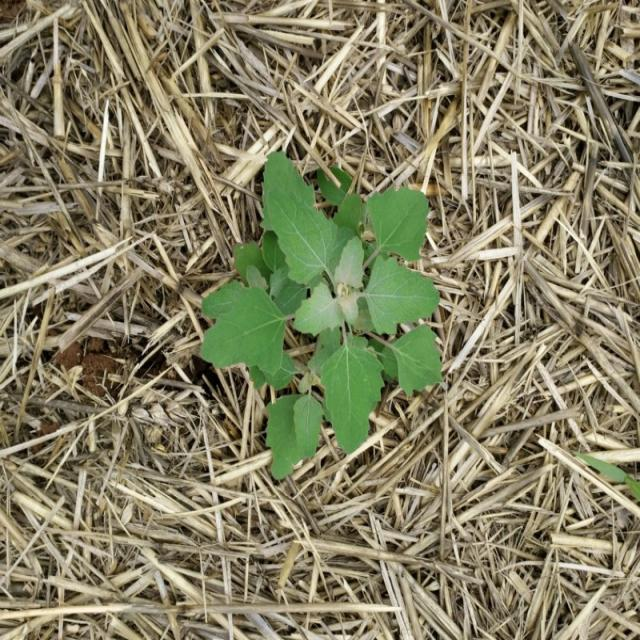ca: (201, 155, 444, 483)
